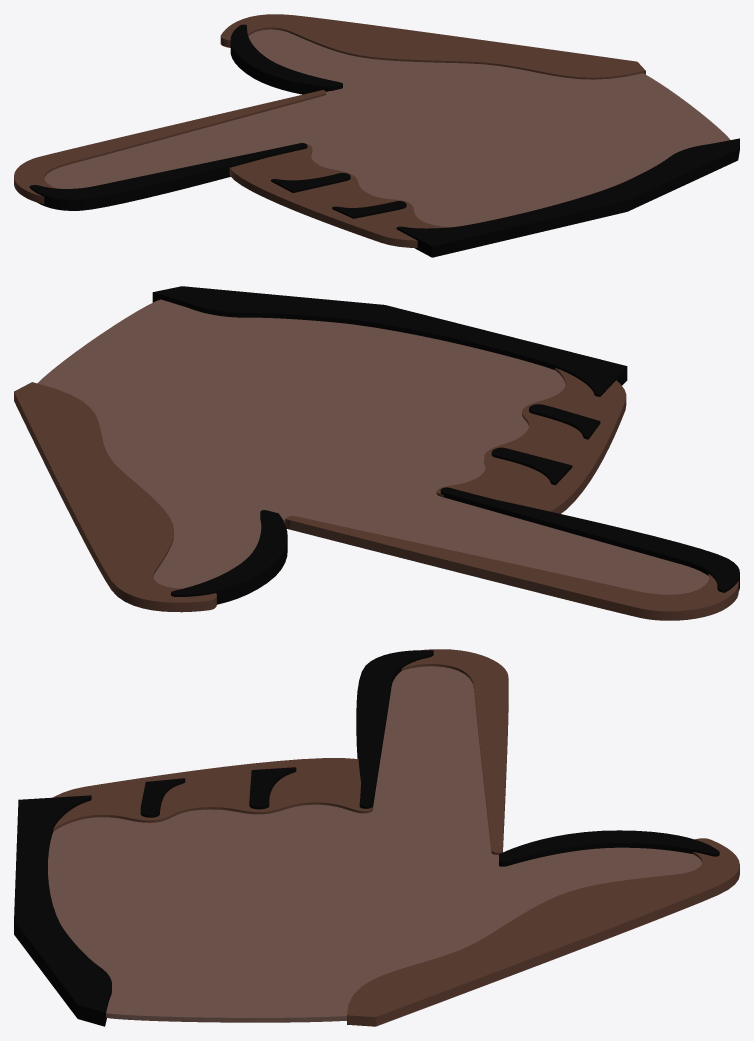
Rendered from emoji_u1f448_1f3ff.glb.
3 views of the same model, one above another, from view 1: azimuth 30°, elevation 25°; view 2: azimuth 150°, elevation 25°; view 3: azimuth 270°, elevation 25° (orthographic). The views are drawn at different scales.
Visible parts, largest first — view 1: emoji_u1f448_1f3ff; view 2: emoji_u1f448_1f3ff; view 3: emoji_u1f448_1f3ff.
Boxes of the visible parts, bbox=[...] form: emoji_u1f448_1f3ff: bbox=[14, 14, 739, 257]; emoji_u1f448_1f3ff: bbox=[14, 286, 739, 620]; emoji_u1f448_1f3ff: bbox=[14, 649, 739, 1026].
Size of the model in its own units: 0.0331 by 0.0006 by 0.0276.
